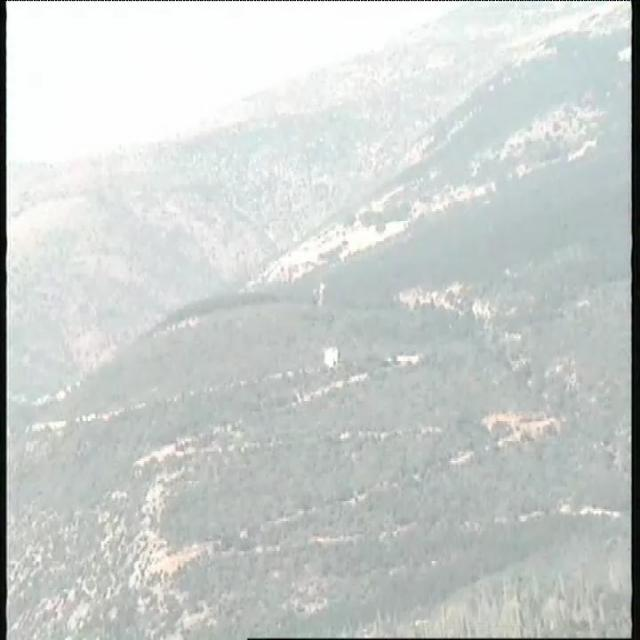smoke: (322, 346, 341, 372)
